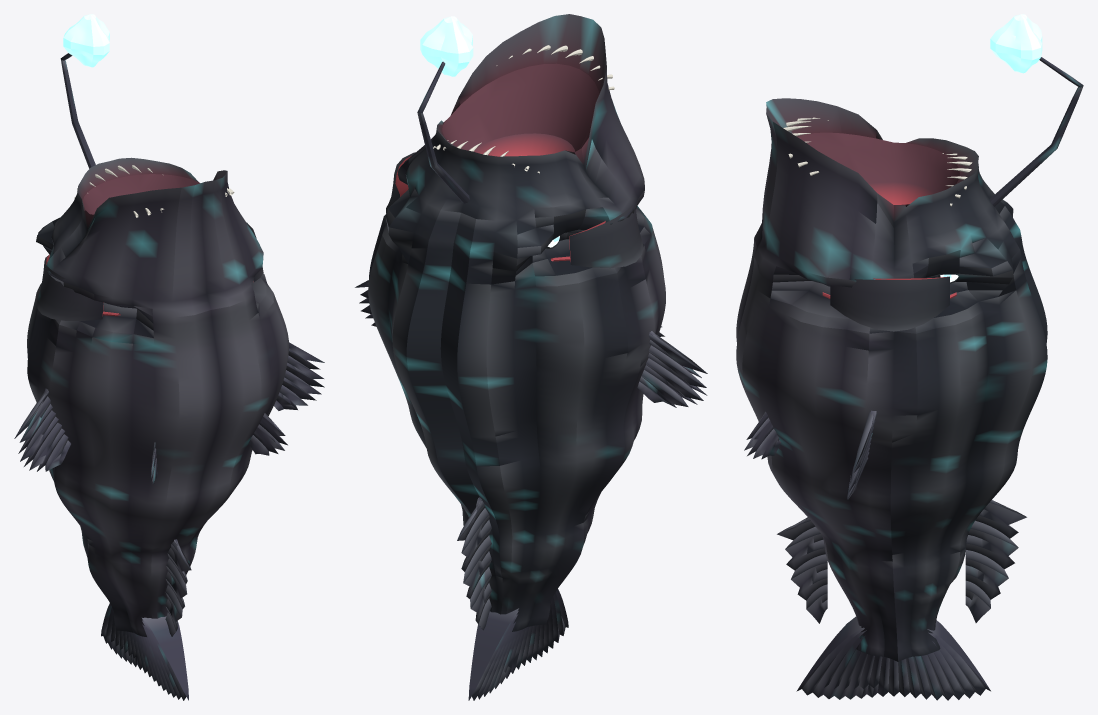
Rendered from fish_angler.glb.
3 views of the same model, side by side, from view 1: azimuth 30°, elevation 25°; view 2: azimuth 150°, elevation 25°; view 3: azimuth 270°, elevation 25° (orthographic). The views are drawn at different scales.
Visible parts, largest first — view 1: Fish_angler; view 2: Fish_angler; view 3: Fish_angler.
Part boxes in pixels (box(x1,y1,x2,y2)): Fish_angler: box(14, 14, 324, 700); Fish_angler: box(355, 14, 707, 700); Fish_angler: box(736, 14, 1083, 700).
Bounding box in the file's own units: 0.5964 × 1.14 × 0.5201.
